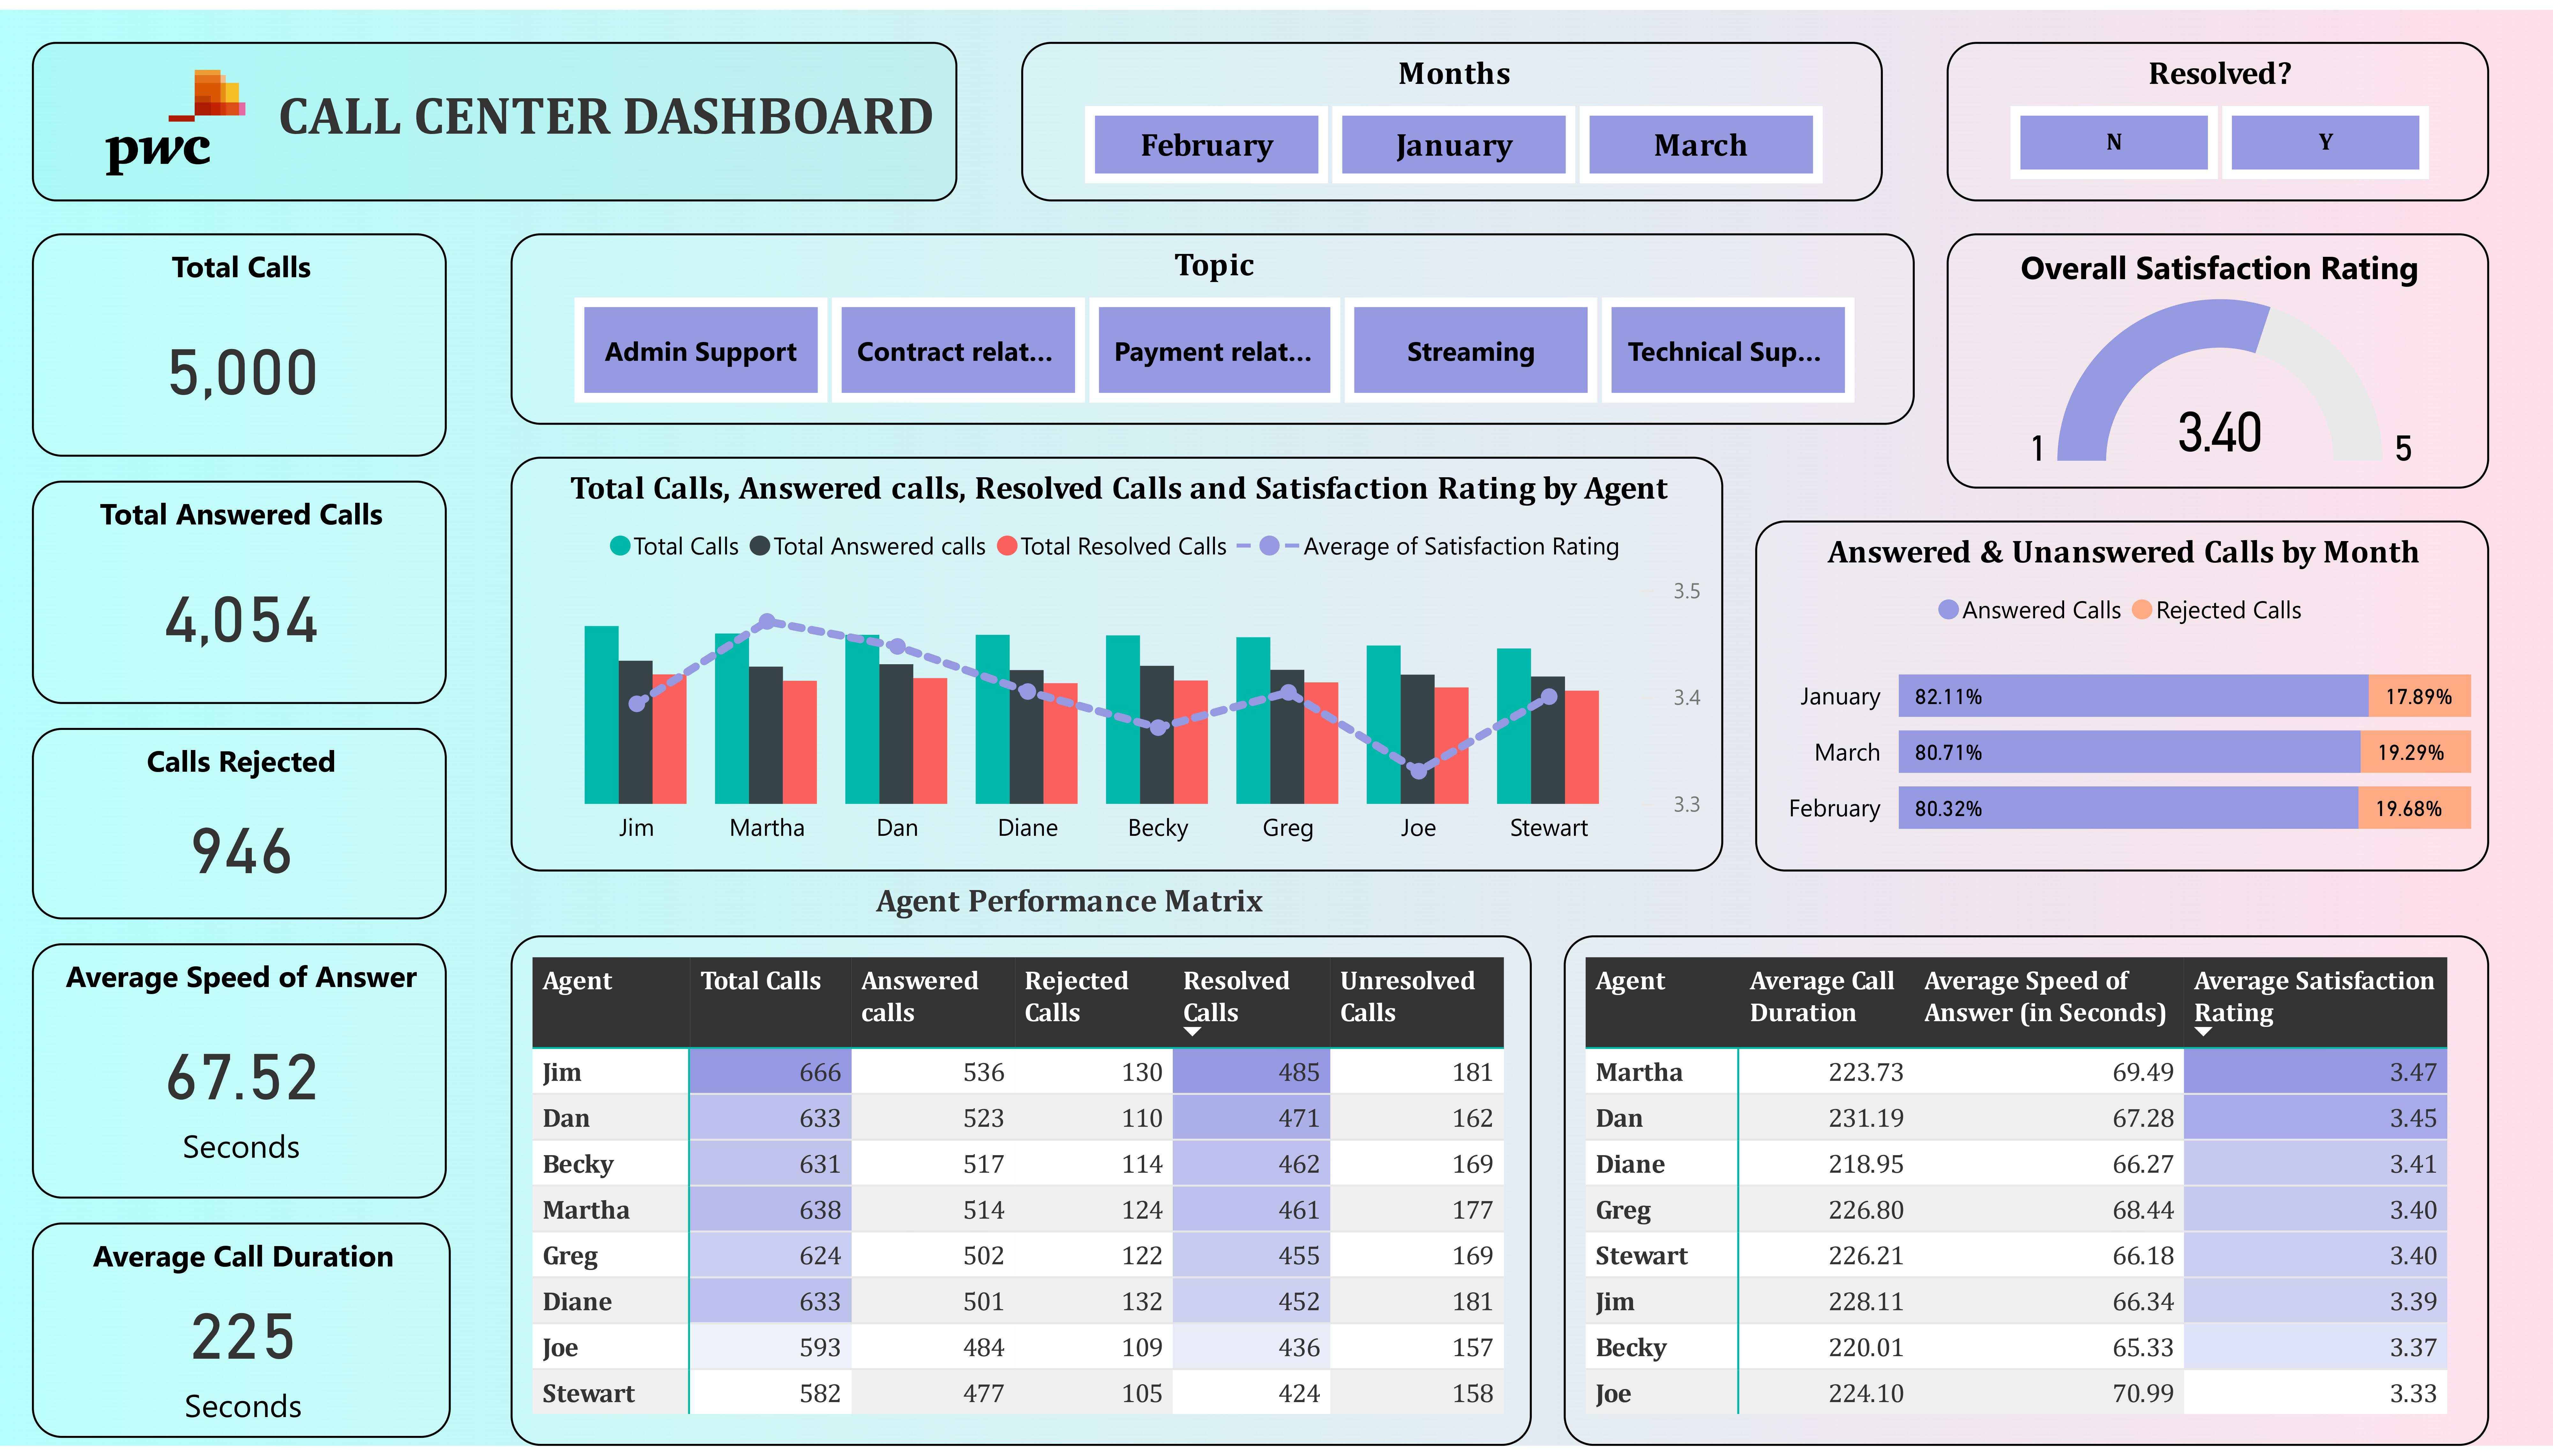

The page's visual inventory and layout, read from the dashboard file:
{"tool":"powerbi","page":{"name":"pwc Call Centre Report","canvas":[1280,720],"ordinal":0},"visuals":[{"type":"shape","box":[16,16,464,80],"z":0},{"type":"slicer","title":"Months","fields":{"Values":["Call Center Data.Month Name"]},"box":[512,16,432,80],"z":1000},{"type":"slicer","title":"Resolved?","fields":{"Values":["Call Center Data.Resolved"]},"box":[976,16,272,80],"z":2000},{"type":"gauge","title":"Overall Satisfaction Rating","fields":{"MinValue":["Sum(Call Center Data.Satisfaction rating)1"],"MaxValue":["Sum(Call Center Data.Satisfaction rating)2"],"Y":["Measure Table.Average of Satisfaction Rating"]},"box":[976,112,272,128],"z":3000},{"type":"card","title":"Total Calls","fields":{"Values":["Measure Table.Total Calls"]},"box":[16,112,208,112],"z":4000},{"type":"pivotTable","fields":{"Rows":["Call Center Data.Agent"],"Values":["Measure Table.Average of Average Call Duration","Measure Table.Average Speed of Answer in Seconds","Measure Table.Average of Satisfaction Rating"]},"box":[784,464,464,256],"z":5000},{"type":"hundredPercentStackedBarChart","title":"Answered & Unanswered Calls by Month","fields":{"Category":["Call Center Data.Month Name"],"Y":["Measure Table.Total Answered calls","Measure Table.Total Rejected Calls"]},"box":[880,256,368,176],"z":6000},{"type":"textbox","box":[128,32,352,48],"z":7000},{"type":"card","title":"Total Answered Calls","fields":{"Values":["Measure Table.Total Answered calls"]},"box":[16,236,208,112],"z":8000},{"type":"card","title":"Calls Rejected","fields":{"Values":["Measure Table.Total Unanswered Calls"]},"box":[16,360,208,96],"z":9000},{"type":"card","title":"Average Speed of Answer","fields":{"Values":["Measure Table.Average Speed of Answer in Seconds"]},"box":[16,468,208,128],"z":10000},{"type":"card","title":"Average Call Duration","fields":{"Values":["Measure Table.Average of Average Call Duration"]},"box":[16,608,210,108],"z":11000},{"type":"lineClusteredColumnComboChart","title":"Total Calls, Answered calls, Resolved Calls and Satisfaction Rating by Agent","fields":{"Category":["Call Center Data.Agent"],"Y":["Measure Table.Total Calls","Measure Table.Total Answered calls","Measure Table.Total Resolved Calls"],"Y2":["Measure Table.Average of Satisfaction Rating"]},"box":[256,224,608,208],"z":12000},{"type":"image","box":[48,16,80,80],"z":13000},{"type":"pivotTable","fields":{"Rows":["Call Center Data.Agent"],"Values":["Measure Table.Total Calls","Measure Table.Total Answered calls","Measure Table.Total Unanswered Calls","Measure Table.Total Resolved Calls","Measure Table.Total Unresolved Calls"]},"box":[256,464,512,256],"z":14000},{"type":"slicer","title":"Topic","fields":{"Values":["Call Center Data.Topic"]},"box":[256,112,704,96],"z":15000},{"type":"textbox","box":[416,432,240,32],"z":16000}]}

Visuals, with their boxes in screenshot pixels (x1, y1, x2, y2), scaled from the page's 1280x720 canvas onto the 2553x1456 screenshot:
shape: {"x1": 32, "y1": 32, "x2": 957, "y2": 194}
"Months" slicer: {"x1": 1021, "y1": 32, "x2": 1883, "y2": 194}
"Resolved?" slicer: {"x1": 1947, "y1": 32, "x2": 2489, "y2": 194}
"Overall Satisfaction Rating" gauge: {"x1": 1947, "y1": 227, "x2": 2489, "y2": 485}
"Total Calls" card: {"x1": 32, "y1": 227, "x2": 447, "y2": 453}
pivotTable - Call Center Data.Agent x Measure Table.Average of Average Call Duration: {"x1": 1564, "y1": 938, "x2": 2489, "y2": 1456}
"Answered & Unanswered Calls by Month" hundredPercentStackedBarChart: {"x1": 1755, "y1": 518, "x2": 2489, "y2": 873}
textbox: {"x1": 255, "y1": 65, "x2": 957, "y2": 162}
"Total Answered Calls" card: {"x1": 32, "y1": 477, "x2": 447, "y2": 704}
"Calls Rejected" card: {"x1": 32, "y1": 728, "x2": 447, "y2": 922}
"Average Speed of Answer" card: {"x1": 32, "y1": 947, "x2": 447, "y2": 1205}
"Average Call Duration" card: {"x1": 32, "y1": 1229, "x2": 451, "y2": 1448}
"Total Calls, Answered calls, Resolved Calls and Satisfaction Rating by Agent" lineClusteredColumnComboChart: {"x1": 511, "y1": 453, "x2": 1723, "y2": 873}
image: {"x1": 96, "y1": 32, "x2": 255, "y2": 194}
pivotTable - Call Center Data.Agent x Measure Table.Total Calls: {"x1": 511, "y1": 938, "x2": 1532, "y2": 1456}
"Topic" slicer: {"x1": 511, "y1": 227, "x2": 1915, "y2": 420}
textbox: {"x1": 830, "y1": 873, "x2": 1308, "y2": 938}
